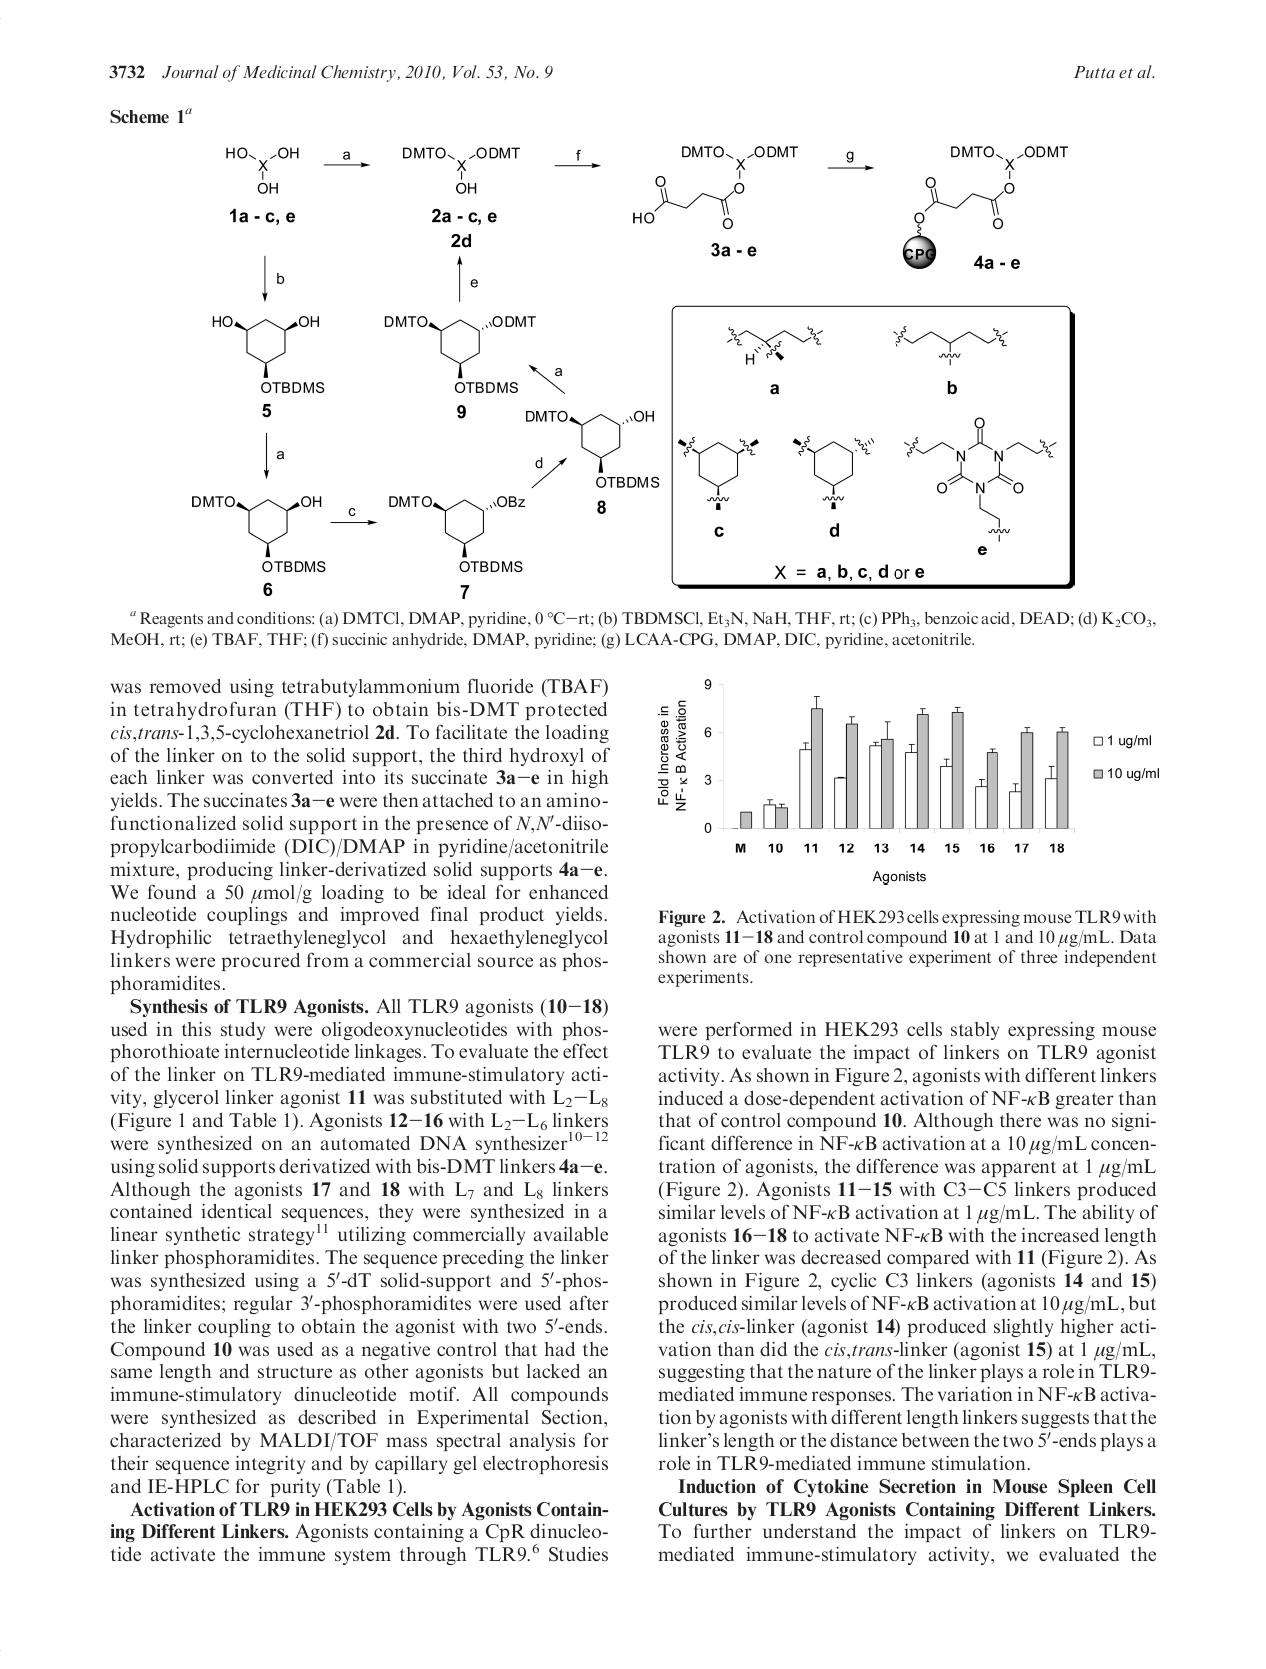exist_molecular: (899, 129, 1082, 269), (902, 415, 1059, 543), (628, 134, 821, 231), (382, 303, 544, 402), (184, 481, 335, 576), (390, 481, 527, 581), (209, 301, 344, 400), (520, 402, 664, 488), (782, 432, 887, 512), (676, 427, 769, 507), (398, 138, 521, 198), (721, 315, 836, 368), (890, 319, 1021, 364), (219, 136, 306, 199)
